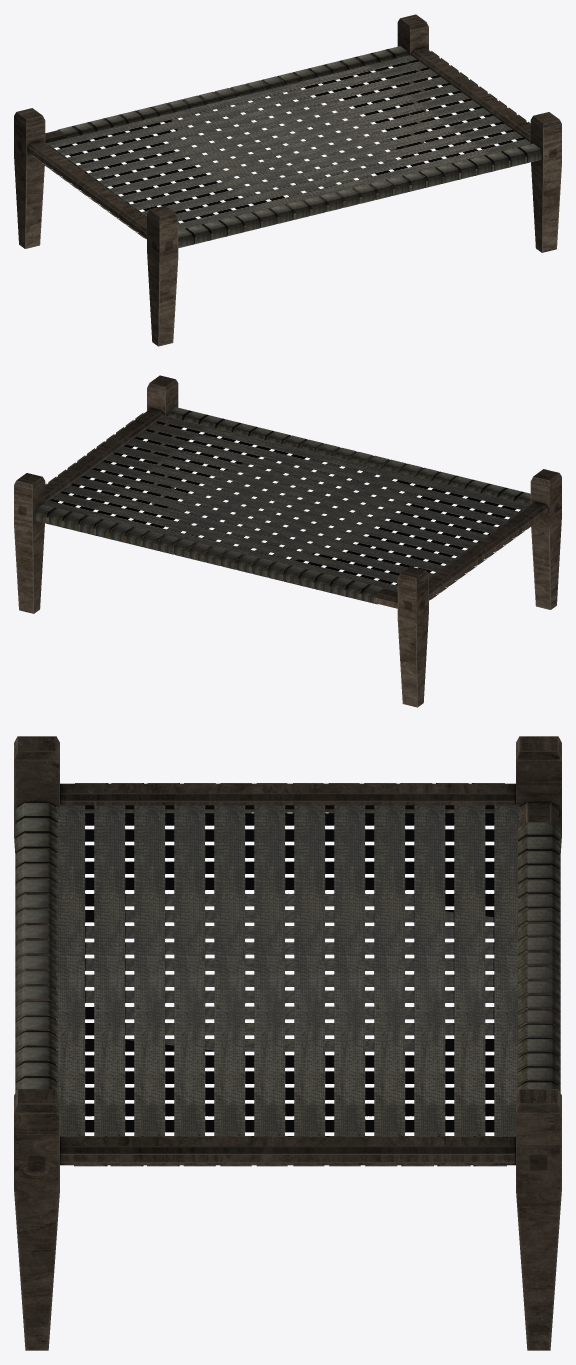
File: the_indian_charpai__khat_bed.obj
The picture shows the model from 3 angles, top to bottom: view 1: azimuth 30°, elevation 25°; view 2: azimuth 150°, elevation 25°; view 3: azimuth 270°, elevation 25°; orthographic projection. The views are drawn at different scales.
Visible parts, largest first — view 1: obj2, obj1; view 2: obj2, obj1; view 3: obj2, obj1.
Boxes of the visible parts, x1,y1,x2,y2 form: obj2: (31,46,541,248); obj1: (14,14,561,346); obj2: (33,407,544,604); obj1: (14,375,561,707); obj2: (15,783,560,1166); obj1: (14,736,561,1350).
Bounding box in the file's own units: 6.51 × 2.03 × 4.07.
2 materials, 2 textured.
